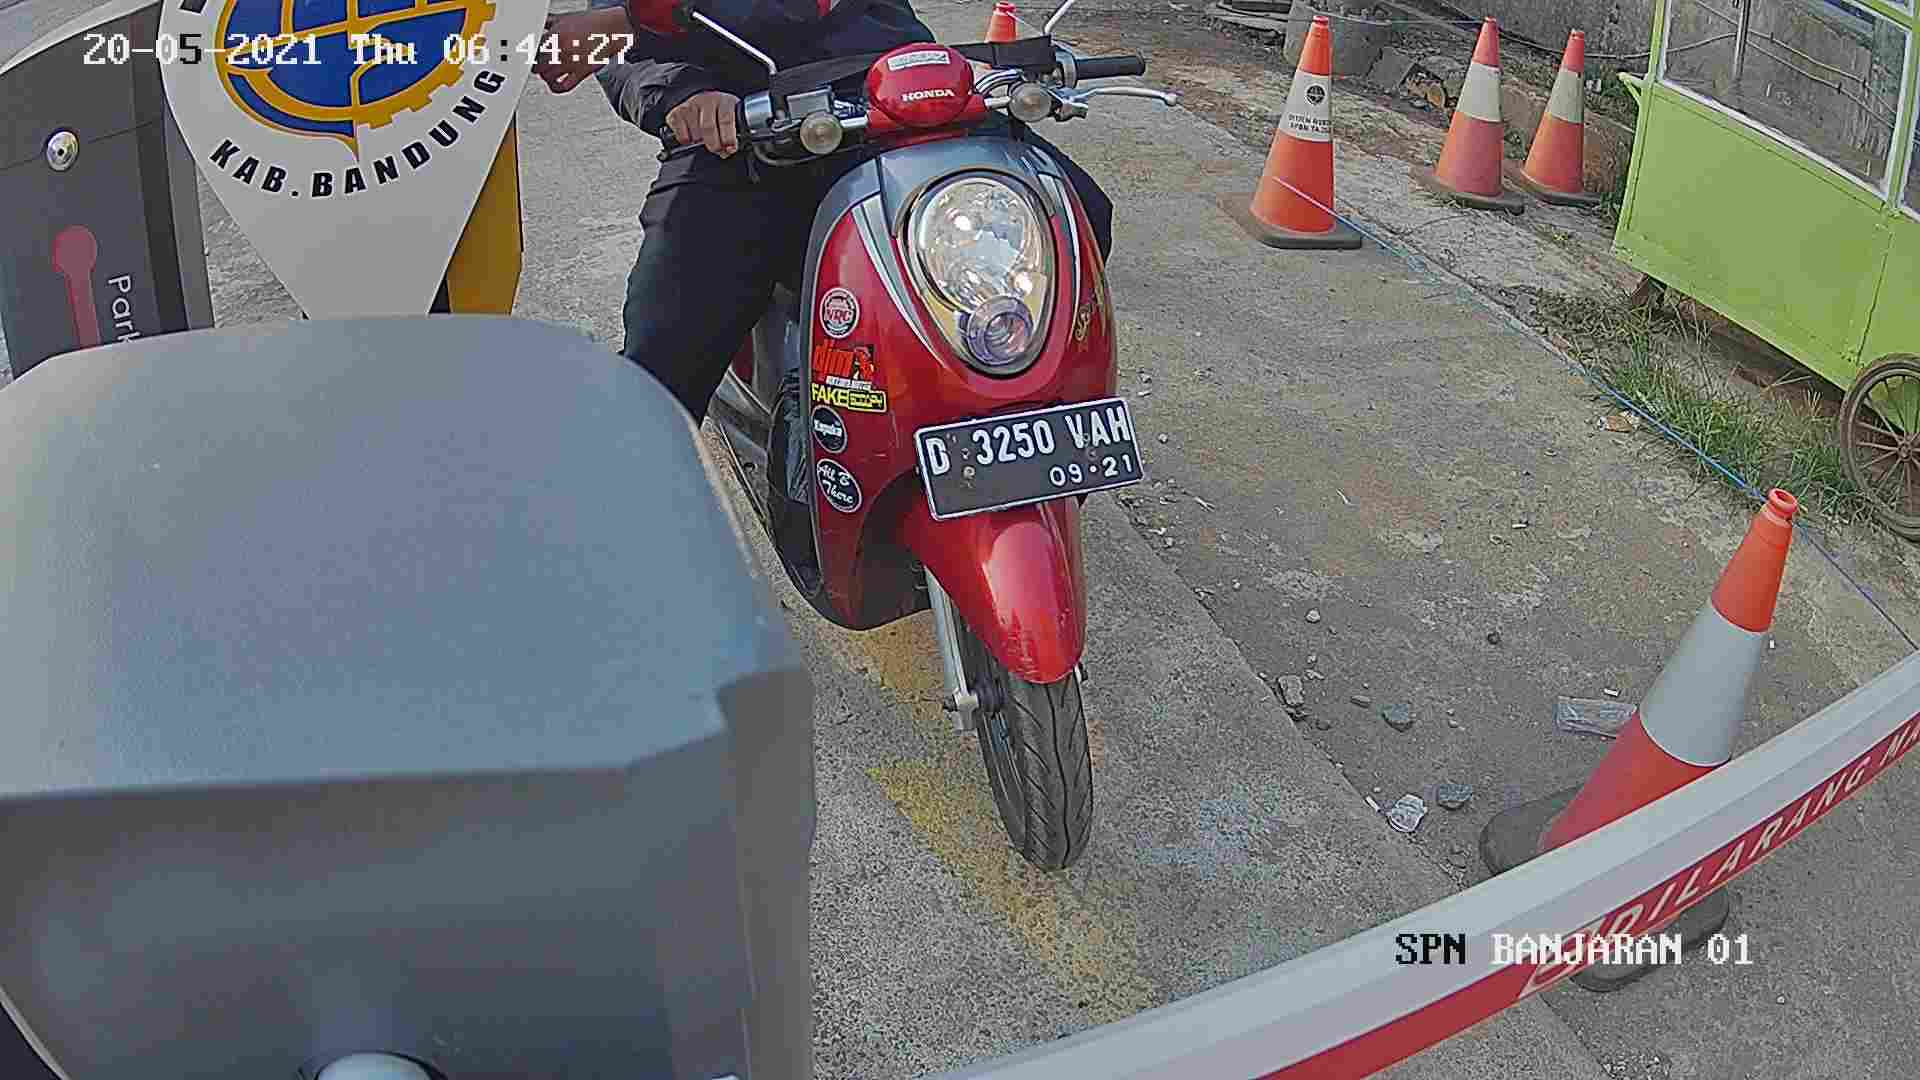motor: (673, 53, 1249, 905)
